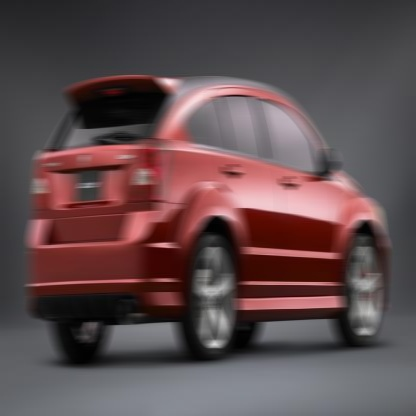Vehicle: (29, 73, 387, 366)
